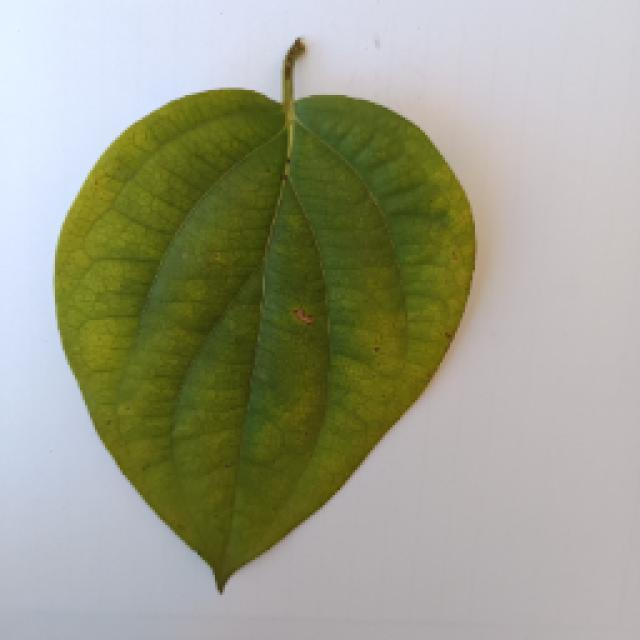slow-decline: (40, 42, 490, 592)
